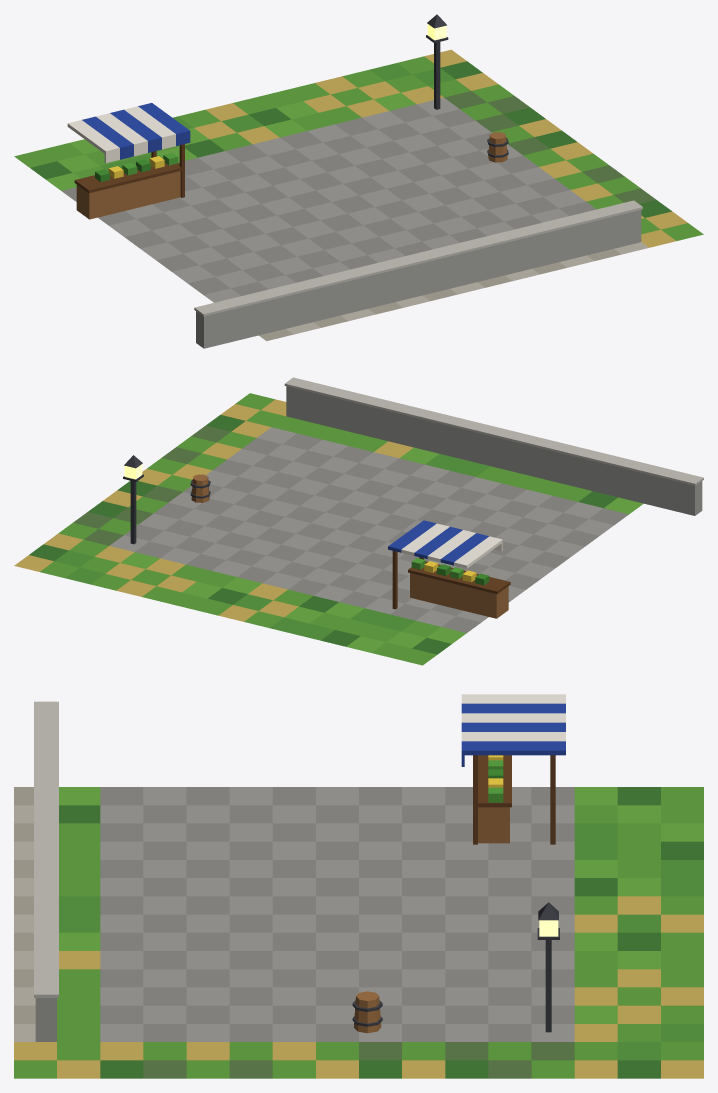
File: chunk_7_9.glb
3 renders of one model, top to bottom at view 1: azimuth 30°, elevation 25°; view 2: azimuth 150°, elevation 25°; view 3: azimuth 270°, elevation 25°, orthographic. The views are drawn at different scales.
Visible parts, largest first — view 1: chunk_7_9; view 2: chunk_7_9; view 3: chunk_7_9.
Boxes of the visible parts, x1,y1,x2,y2 form: chunk_7_9: (14, 14, 703, 348); chunk_7_9: (14, 377, 703, 665); chunk_7_9: (14, 694, 703, 1078).
Size of the model in its own units: 18.04 by 3.3 by 16.
